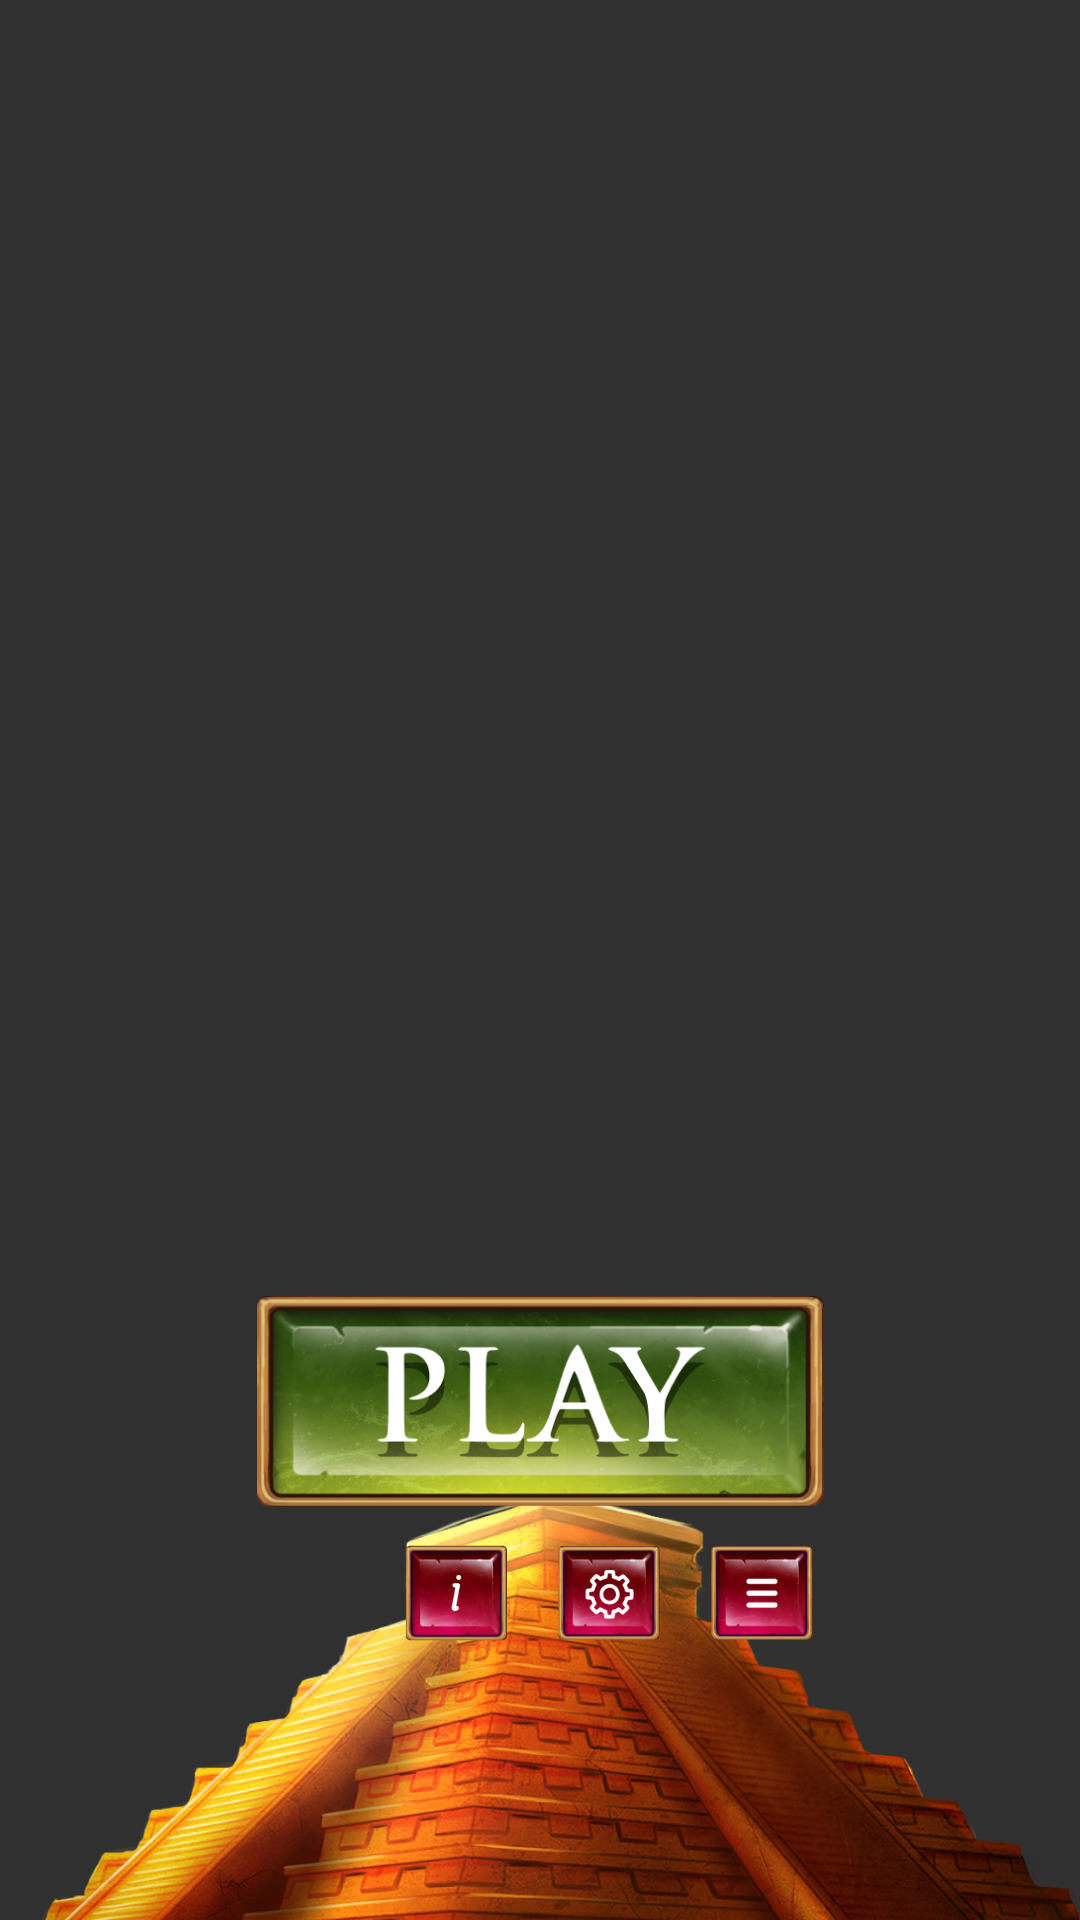

Icons on this 1080x1920 Android screen, each with the point to tap as (x,y):
info: (456,1593)
menu: (762,1595)
settings: (609,1593)
